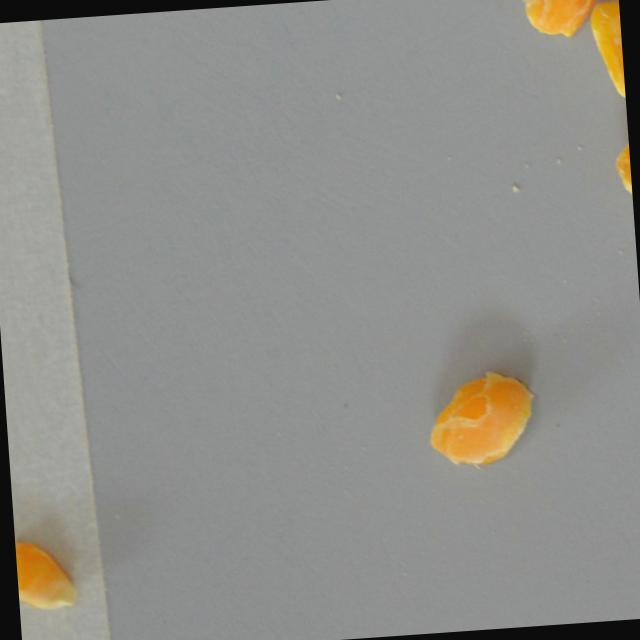entero: (15, 535, 81, 615)
pelicula: (423, 365, 541, 472), (586, 0, 626, 111), (519, 0, 611, 42), (611, 129, 634, 220)
